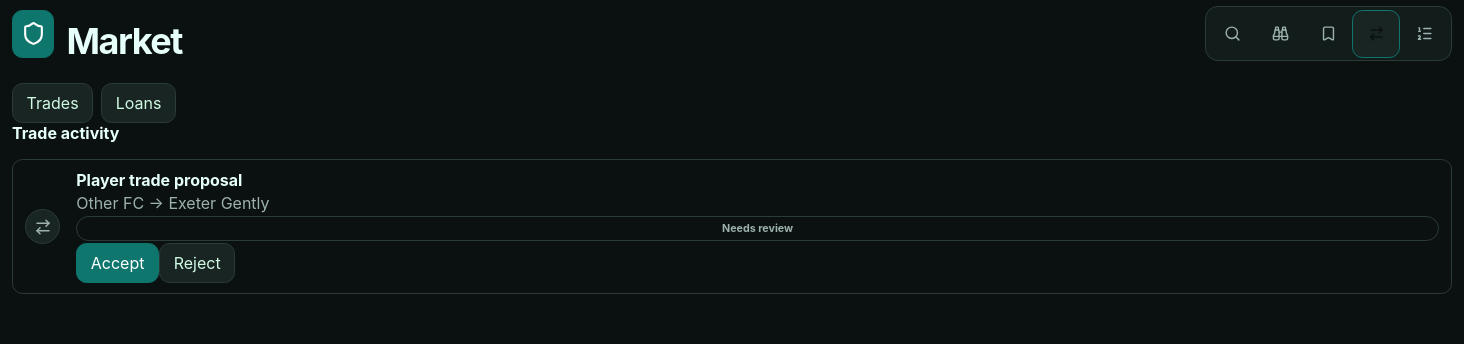
MarketPage › offers authorised trade responses and explains that acceptance awaits commissioner approval
Click the button "Accept": click(118, 263) left=76, top=243, right=159, bottom=283
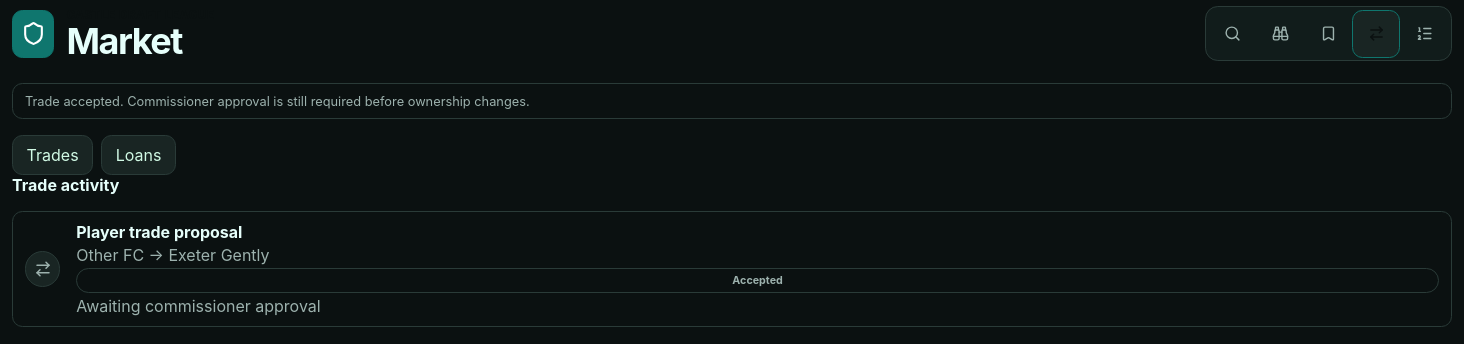
Expected: the text "Commissioner approval is still required" is shown, left=25, top=94, right=530, bottom=109
Expected: the text "Awaiting commissioner approval" is shown, left=76, top=296, right=321, bottom=316
Expected: the button "Reject" no longer shows "Reject"
